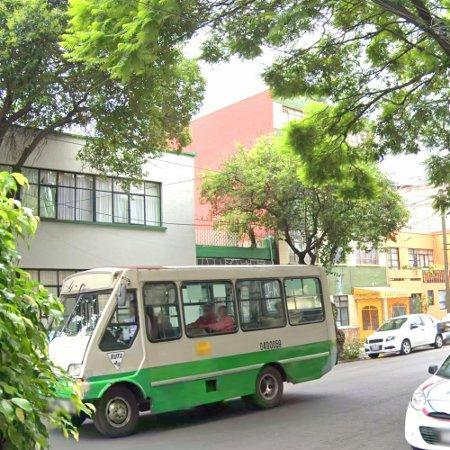buses: (49, 266, 337, 437)
